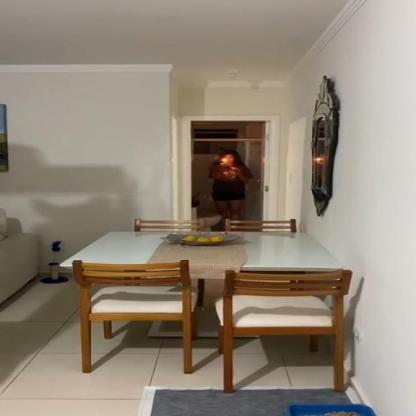fire: (220, 156, 228, 165)
